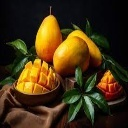mango: (53, 36, 90, 72)
